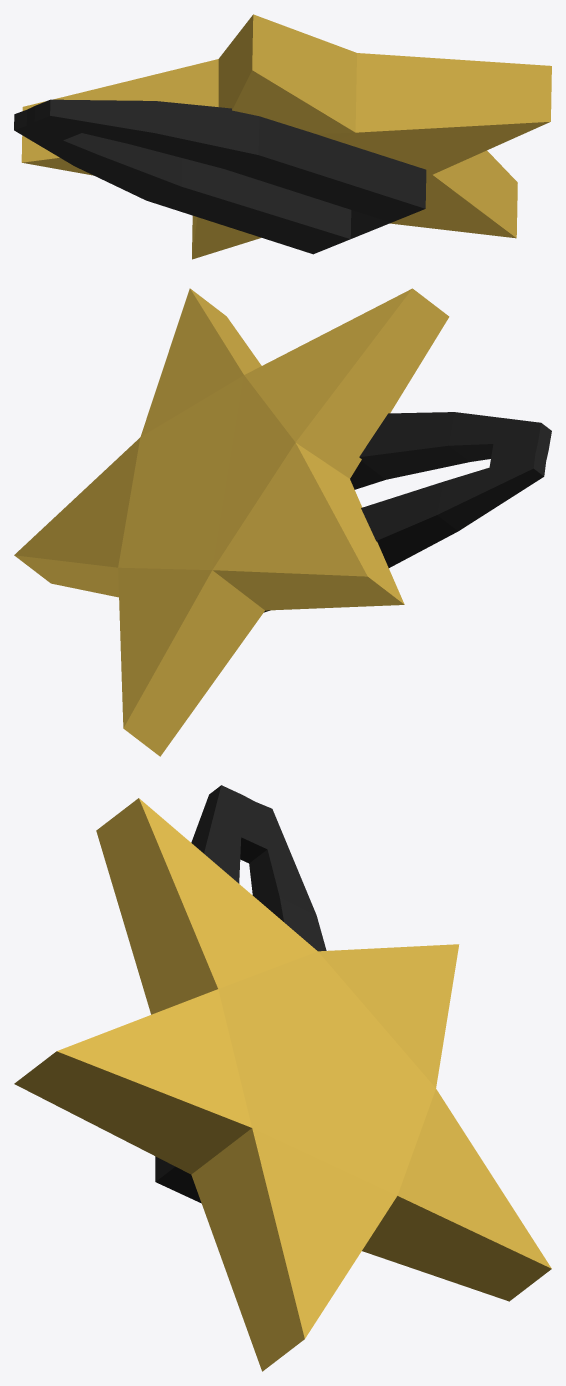
File: starclip.fbx
The picture shows the model from 3 angles, top to bottom: view 1: azimuth 30°, elevation 25°; view 2: azimuth 150°, elevation 25°; view 3: azimuth 270°, elevation 25°; orthographic projection. The views are drawn at different scales.
Visible parts, largest first — view 1: Plane.004, Plane.003; view 2: Plane.004, Plane.003; view 3: Plane.004, Plane.003.
Boxes of the visible parts, x1,y1,x2,y2 form: Plane.004: [21, 14, 551, 259]; Plane.003: [14, 99, 426, 254]; Plane.004: [14, 288, 449, 756]; Plane.003: [264, 412, 551, 612]; Plane.004: [14, 798, 551, 1371]; Plane.003: [155, 785, 326, 1203].
Size of the model in its own units: 55.77 by 39.35 by 42.82.
